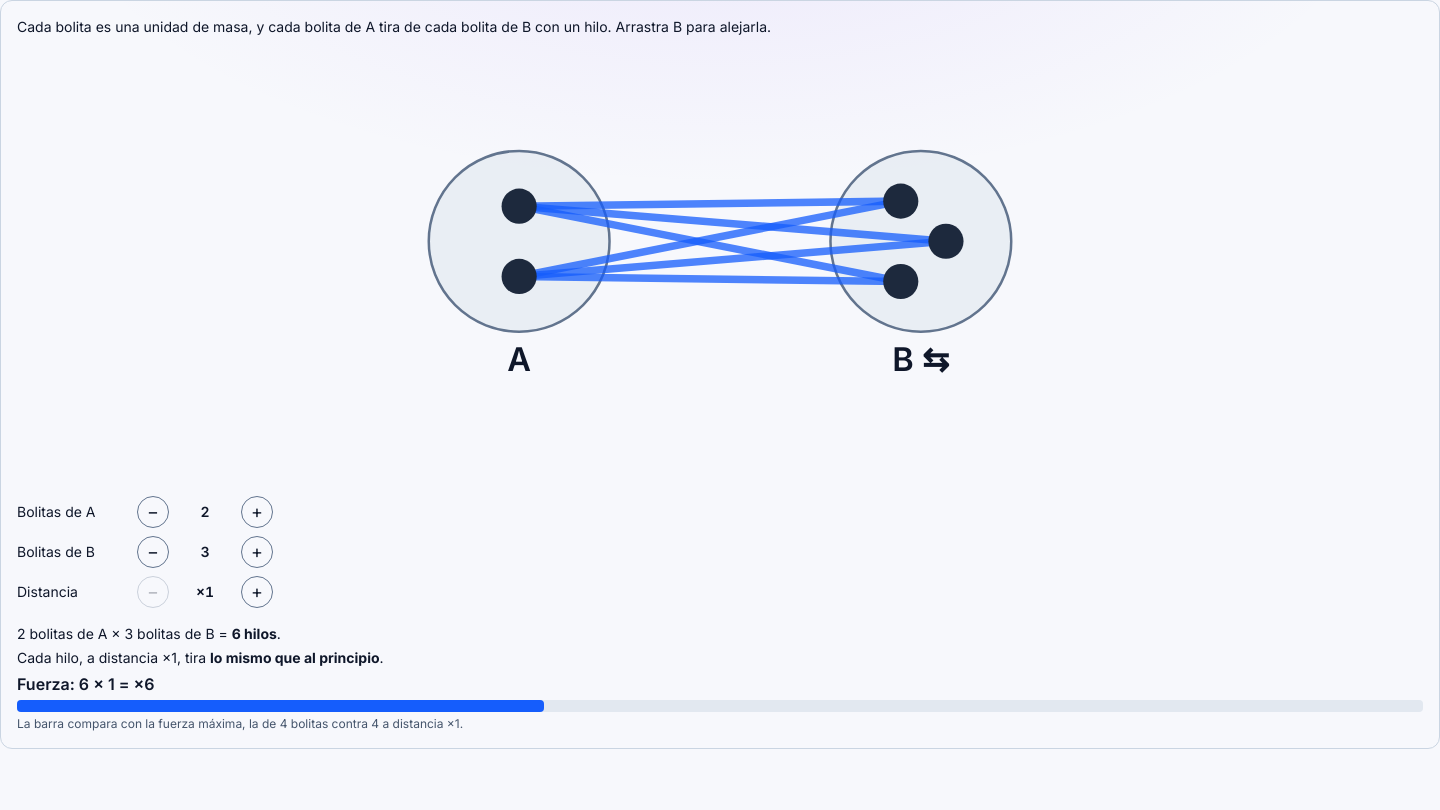
it: MassThreads › adds a thread per bead of the other mass
Later steps or results of the test are not shown.
Click the button named "Más: Bolitas de A".
click(257, 512)  # box [241,496,273,528]
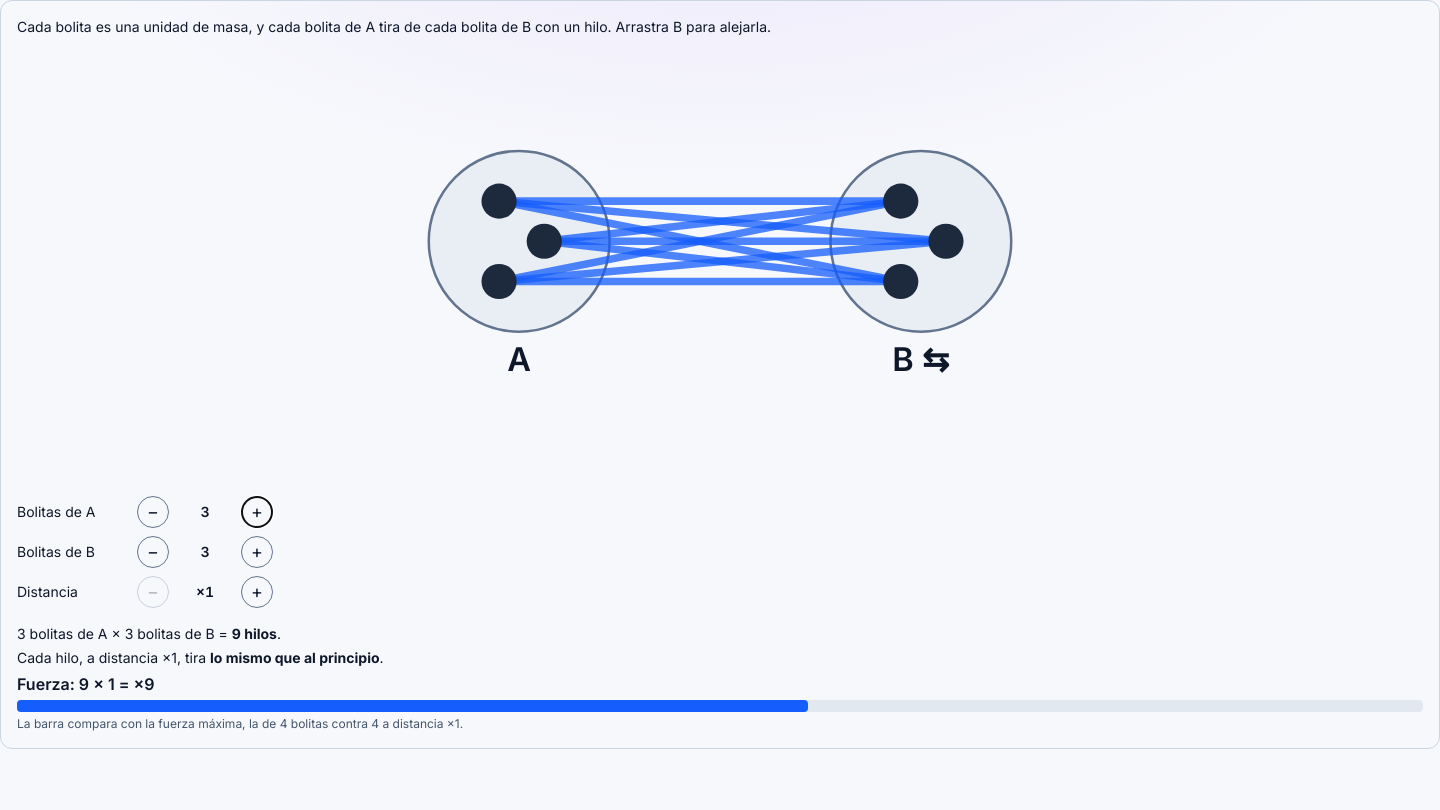
Now the text "Fuerza: 9 × 1 = ×9" is shown, box [17,674,154,694]
